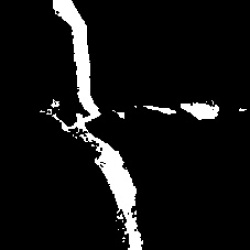crack: (42, 0, 143, 248), (179, 103, 219, 121), (145, 106, 176, 114)
pinhole: (117, 109, 128, 123), (240, 108, 246, 113)
